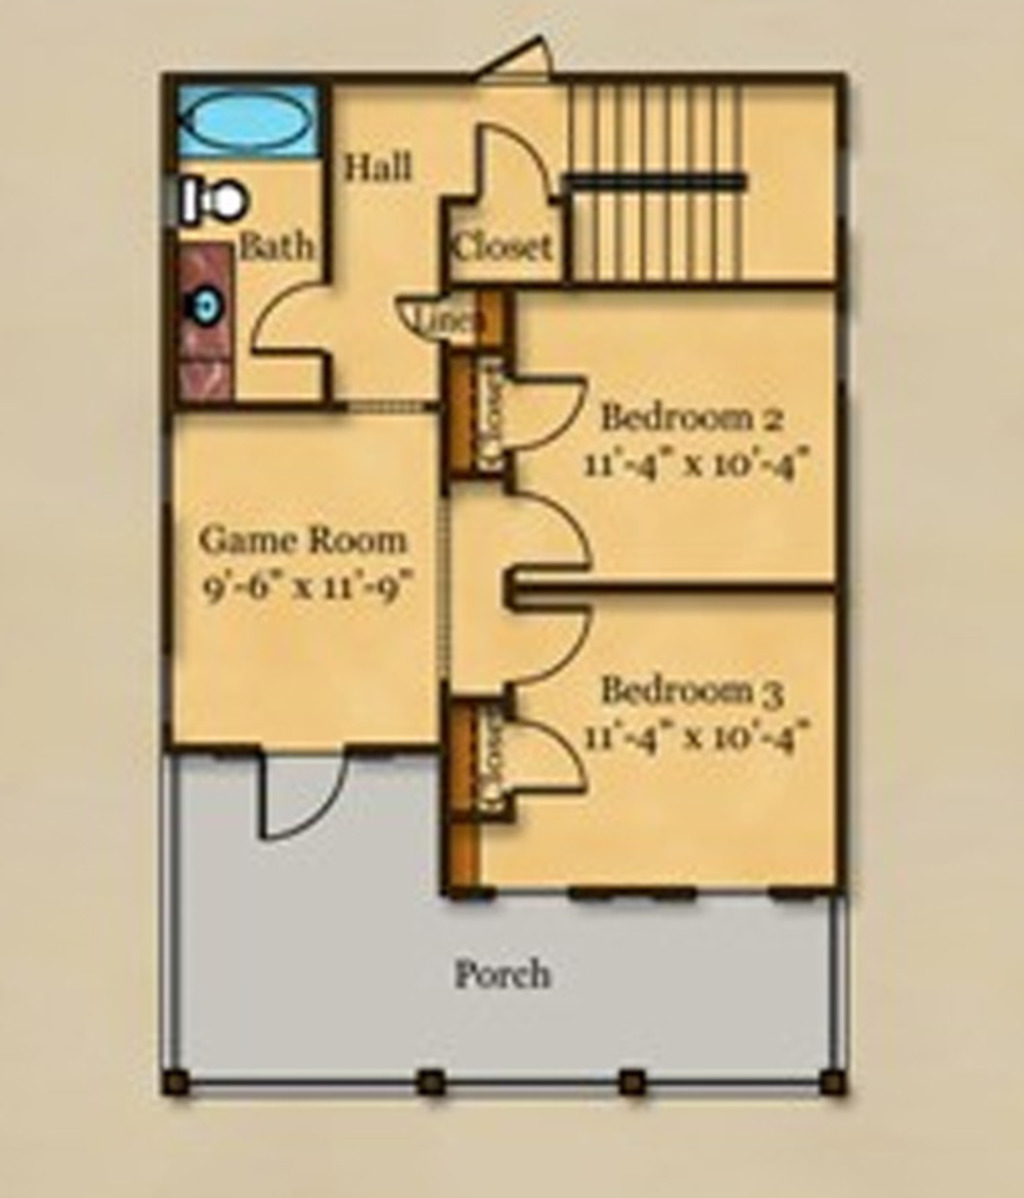door: (243, 746, 353, 845), (509, 483, 605, 576), (502, 602, 600, 691), (501, 713, 594, 807), (506, 367, 591, 455), (247, 276, 331, 365), (468, 121, 554, 207)
large_sink: (175, 172, 258, 228)
stairs: (568, 79, 754, 290)
tub: (180, 84, 323, 164)
